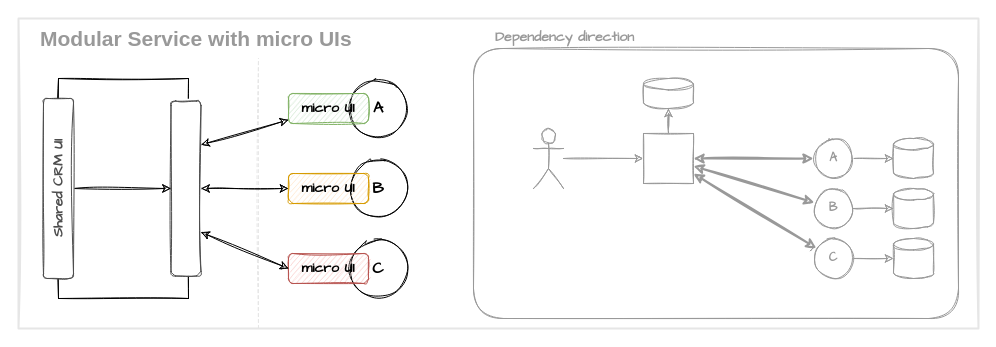
Some shapes in this 996 by 347 pixel diagram are drawn without their labels. Each missing label, with the centre of its shape:
"CRM" belongs at point 668,158.
"UI hosting mechanism" belongs at point 185,188.
